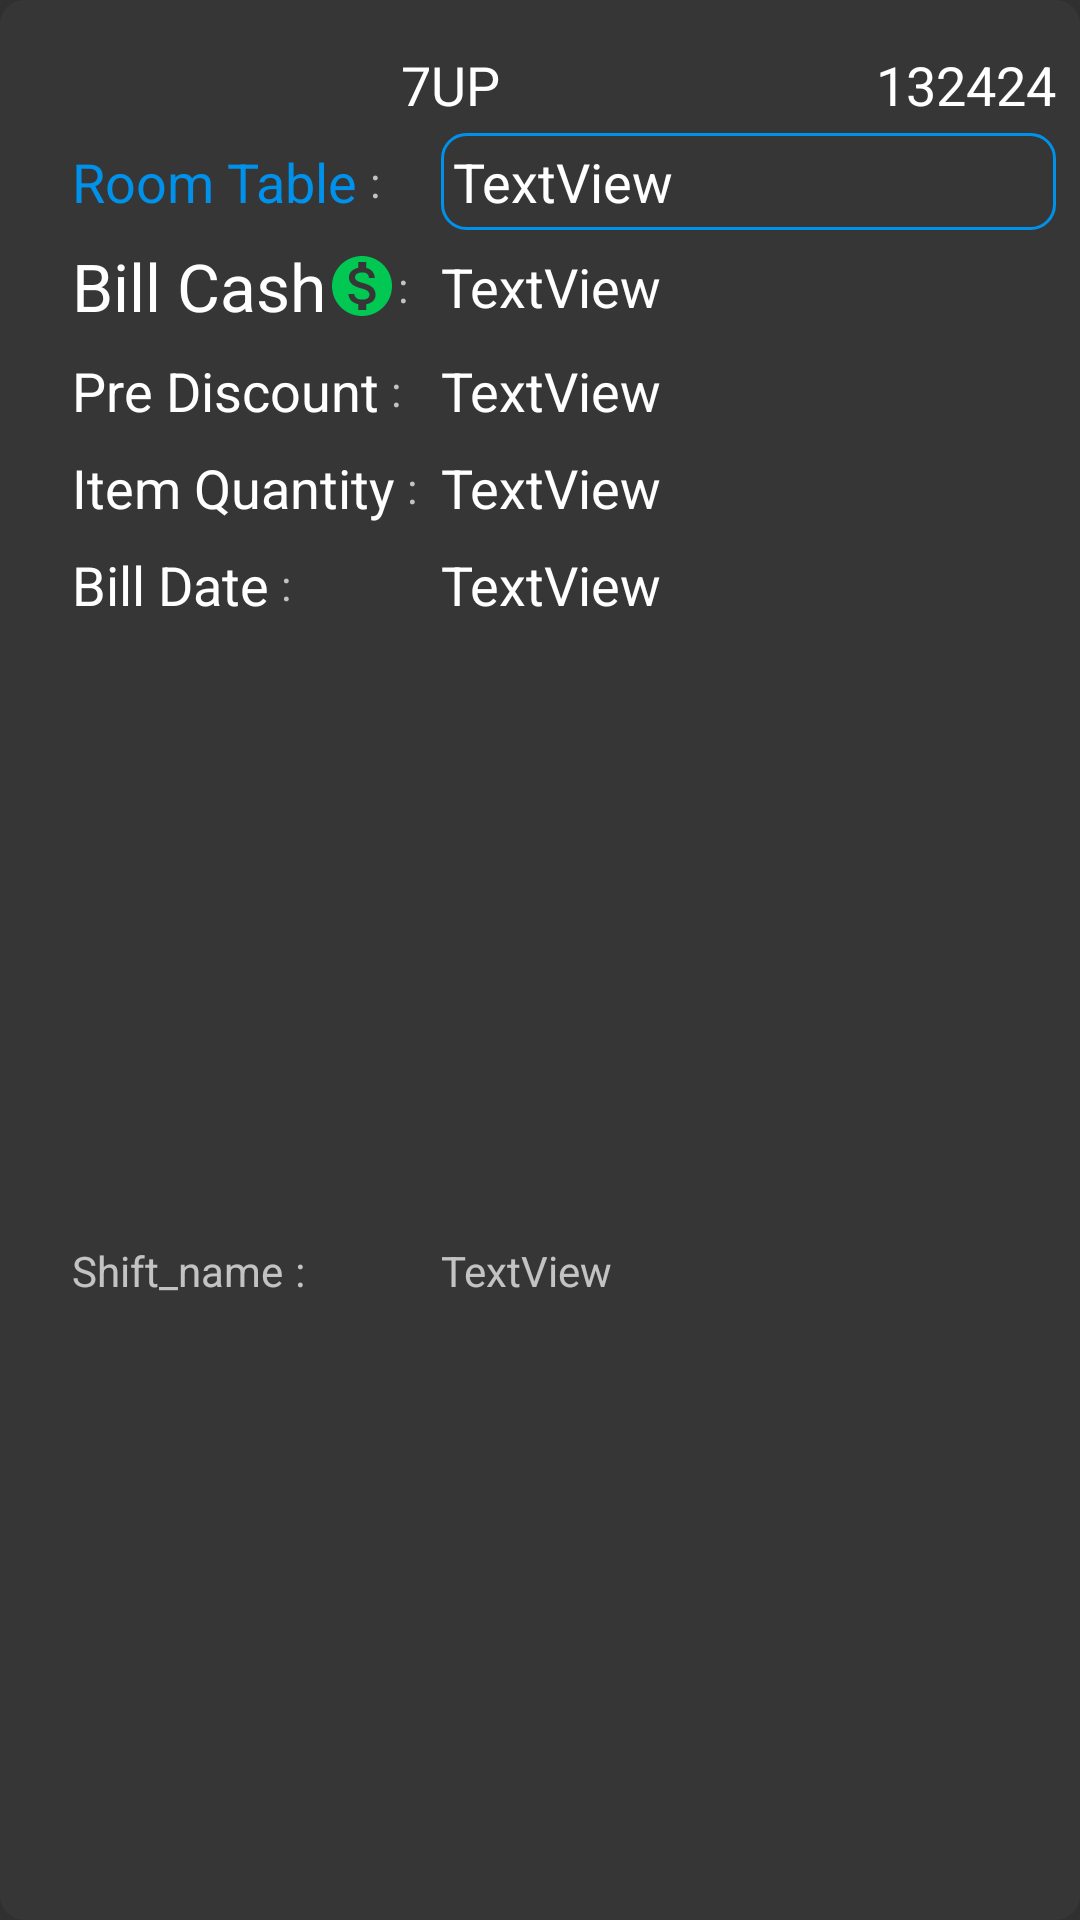

Icon bounding boxes for this 1080*1920 phone screenshot, format {"left": x1, "top": y1, "right": x2, "bottom": y2}:
money: {"left": 332, "top": 256, "right": 392, "bottom": 316}
